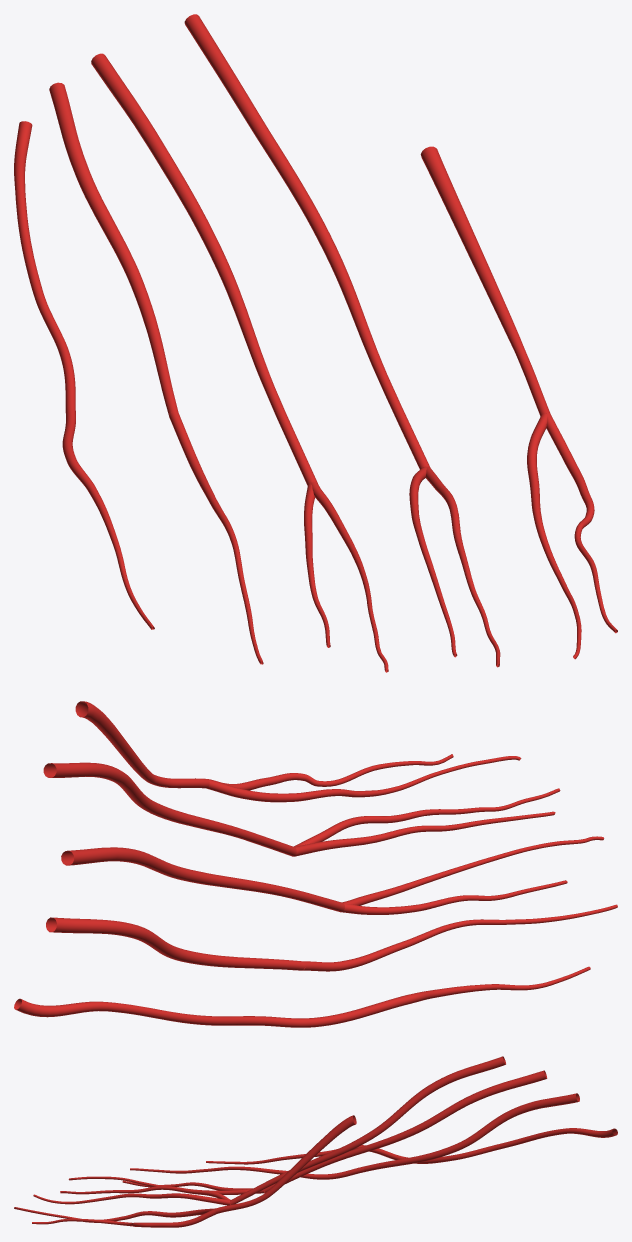
Rendered from circulatorio-dorsal-metatarsal-arteries-r.glb.
3 views of the same model, one above another, from view 1: azimuth 30°, elevation 25°; view 2: azimuth 150°, elevation 25°; view 3: azimuth 270°, elevation 25° (orthographic). The views are drawn at different scales.
Parts seen in each view (by area): view 1: Dorsal metatarsal arteries.r, Dorsal digital arteries of foot.r; view 2: Dorsal digital arteries of foot.r, Dorsal metatarsal arteries.r; view 3: Dorsal metatarsal arteries.r, Dorsal digital arteries of foot.r.
Part boxes in pixels (<box>): Dorsal metatarsal arteries.r: <box>49,14,550,485</box>; Dorsal digital arteries of foot.r: <box>14,121,617,672</box>; Dorsal digital arteries of foot.r: <box>14,754,617,1027</box>; Dorsal metatarsal arteries.r: <box>43,701,344,970</box>; Dorsal metatarsal arteries.r: <box>215,1056,579,1213</box>; Dorsal digital arteries of foot.r: <box>14,1128,617,1227</box>.
Size of the model in its own units: 0.0655 by 0.0506 by 0.1464.
